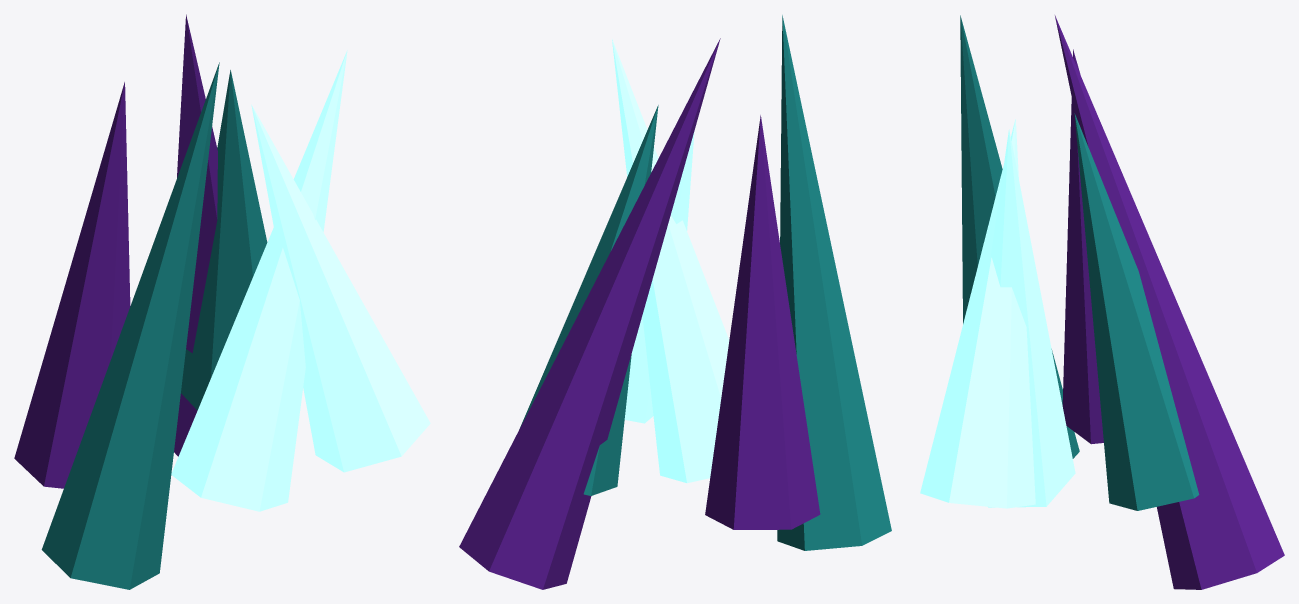
Rendered from Prop_OR_Crystal_11.glb.
3 views of the same model, side by side, from view 1: azimuth 30°, elevation 25°; view 2: azimuth 150°, elevation 25°; view 3: azimuth 270°, elevation 25° (orthographic). The views are drawn at different scales.
Visible parts, largest first — view 1: Prop_OR_Crystal_11; view 2: Prop_OR_Crystal_11; view 3: Prop_OR_Crystal_11.
Boxes of the visible parts, bbox=[...] form: Prop_OR_Crystal_11: bbox=[14, 14, 430, 589]; Prop_OR_Crystal_11: bbox=[459, 15, 891, 589]; Prop_OR_Crystal_11: bbox=[920, 15, 1284, 589].
Bounding box in the file's own units: 0.809 × 1.23 × 0.7844.
